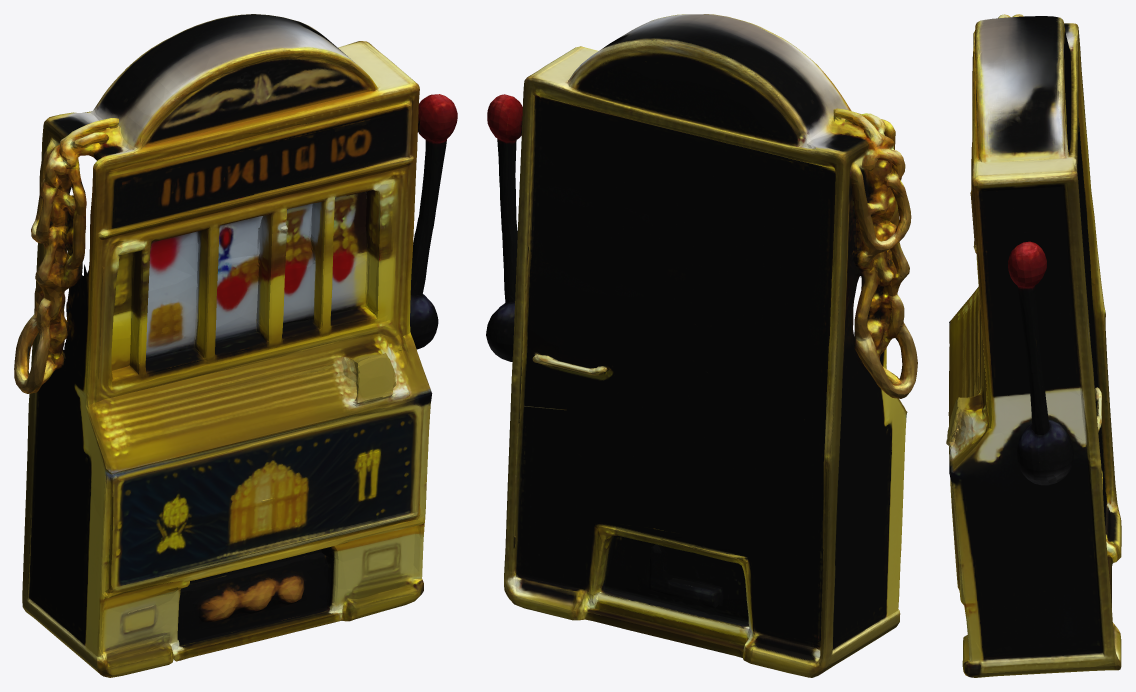
3 renders of one model, left to right at view 1: azimuth 30°, elevation 25°; view 2: azimuth 150°, elevation 25°; view 3: azimuth 270°, elevation 25°, orthographic. The views are drawn at different scales.
Parts seen in each view (by area): view 1: world; view 2: world; view 3: world.
Boxes of the visible parts, bbox=[...] form: world: bbox=[14, 14, 457, 677]; world: bbox=[486, 14, 917, 677]; world: bbox=[946, 14, 1121, 677].
Size of the model in its own units: 0.5124 by 0.6723 by 0.1854.
1 material, 1 textured.
